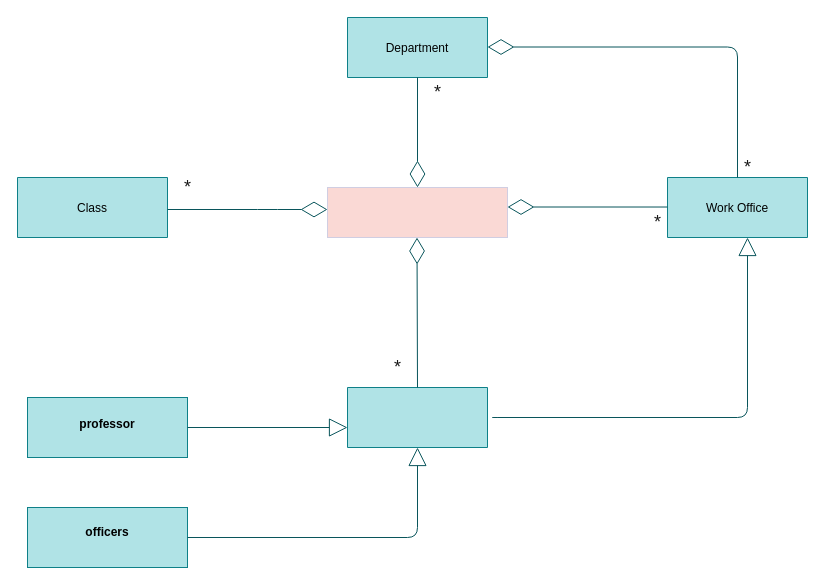
Some shapes in this 825 by 585 pixel diagram are drawn without their labels. The shapes that lost their labels are listed below. From the top down, each one's centre as x and y in pixels, then its label:
the point at 417,212: University
the point at 417,417: Employees
